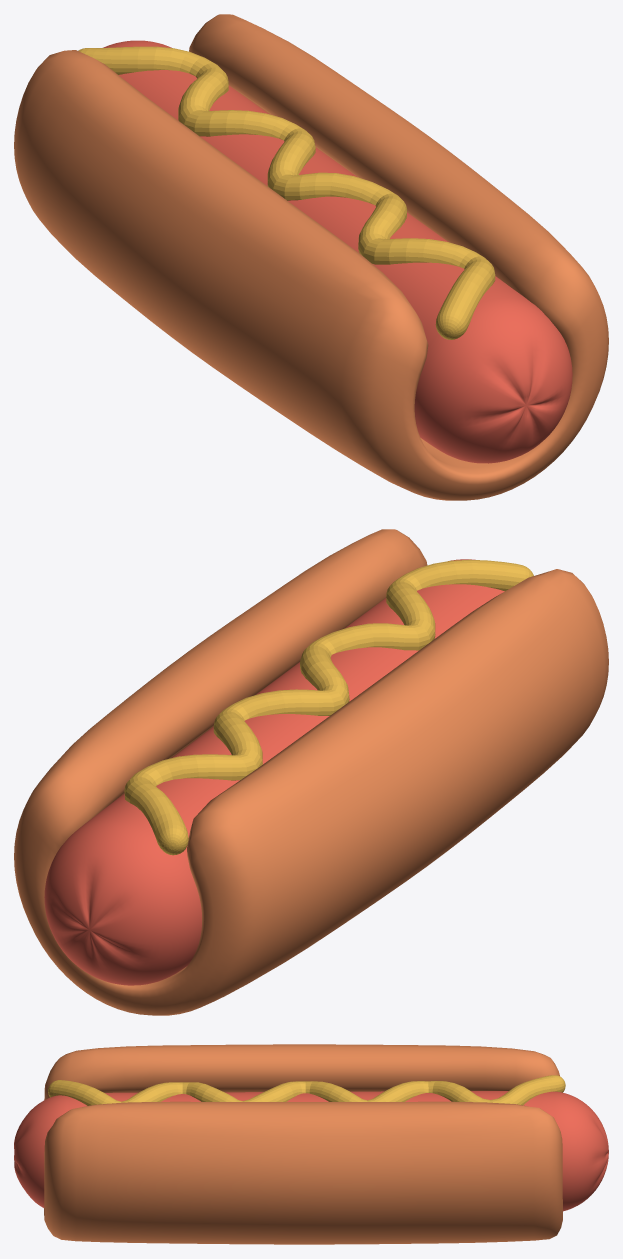
Rendered from festival1.glb.
3 renders of one model, top to bottom at view 1: azimuth 30°, elevation 25°; view 2: azimuth 150°, elevation 25°; view 3: azimuth 270°, elevation 25°, orthographic. The views are drawn at different scales.
Visible parts, largest first — view 1: Bread.002; view 2: Bread.002; view 3: Bread.002.
Boxes of the visible parts, x1,y1,x2,y2 form: Bread.002: (14,14,608,500); Bread.002: (14,529,608,1015); Bread.002: (14,1044,608,1244).
Bounding box in the file's own units: 0.86 × 0.5984 × 2.1.
